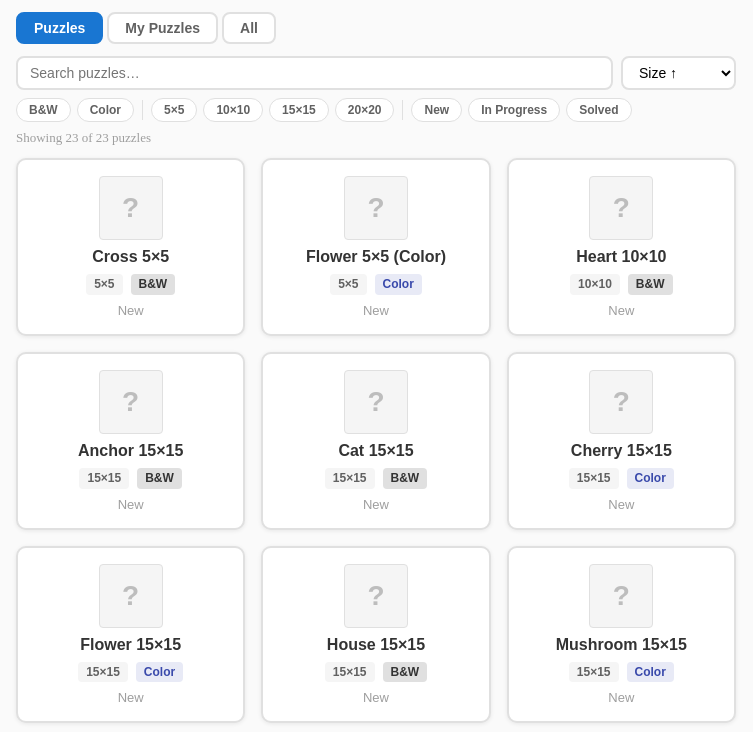
PuzzleBrowser › search filters puzzles by name
Type "Cross 5×5" into the search field at [314, 73], box [16,56,613,90]
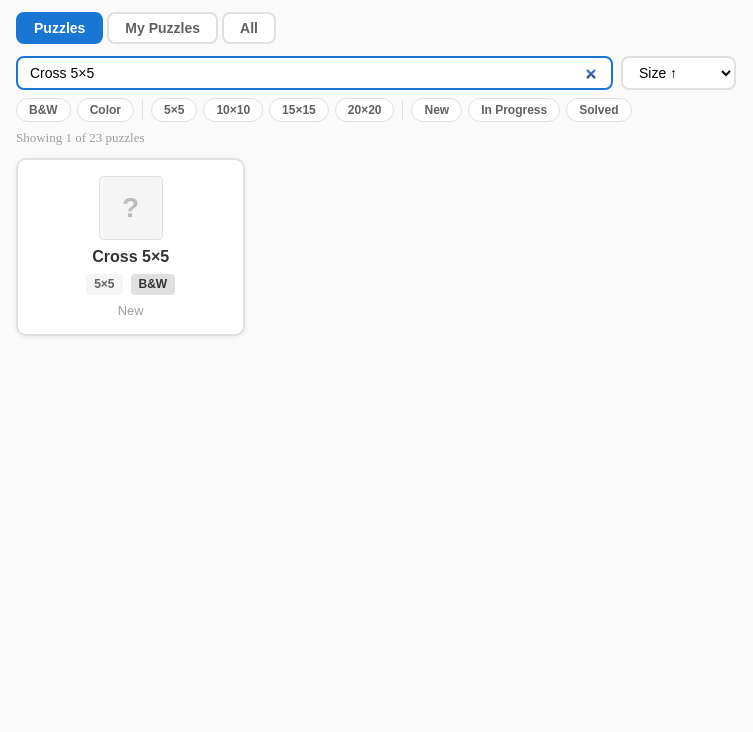
expect the text "Cross 5×5" is shown: met, box [92,248,169,266]
expect the text "Showing 1 of 23 puzzles" is shown: met, box [16,130,145,145]
